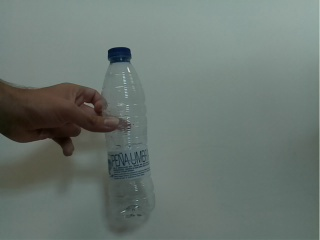botella plastico: (98, 45, 160, 223)
